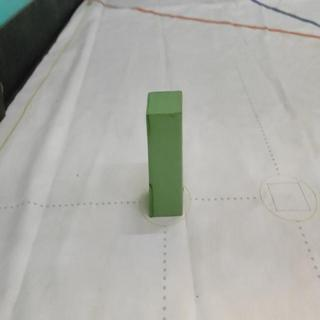greenbox: (145, 89, 185, 218)
